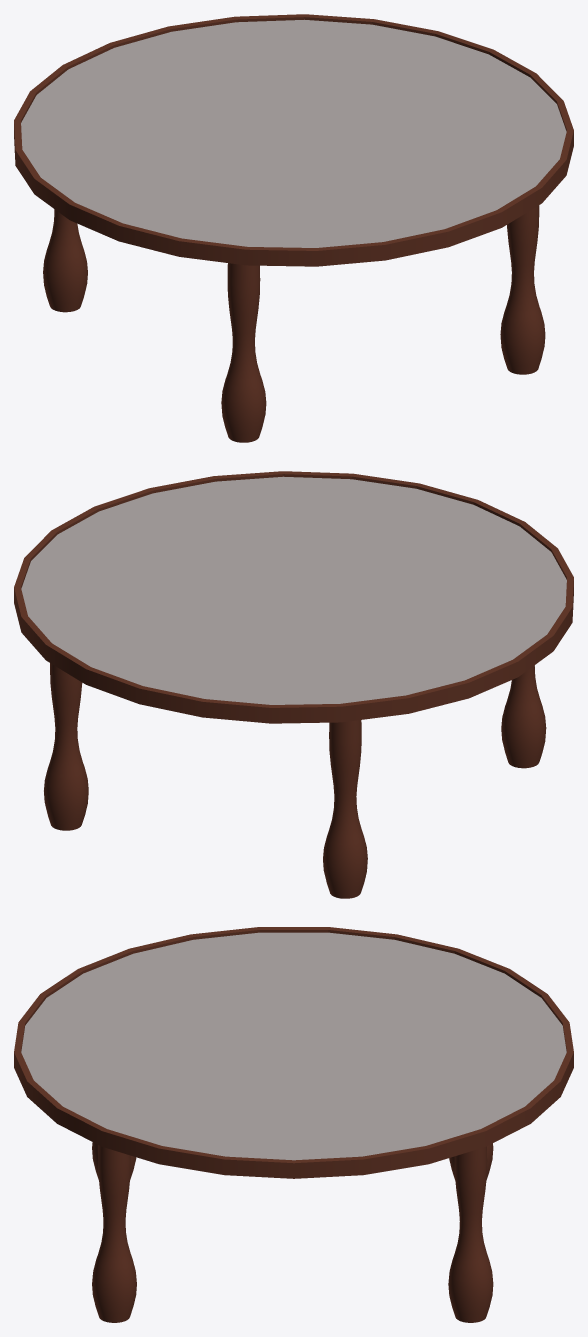
File: table.glb
3 views of the same model, one above another, from view 1: azimuth 30°, elevation 25°; view 2: azimuth 150°, elevation 25°; view 3: azimuth 270°, elevation 25° (orthographic).
Visible parts, largest first — view 1: Cylinder001, Cylinder007, Cylinder006, Cylinder005; view 2: Cylinder001, Cylinder005, Cylinder004, Cylinder007; view 3: Cylinder001, Cylinder006, Cylinder004.
Boxes of the visible parts, x1,y1,x2,y2 form: Cylinder001: (14, 14, 573, 266); Cylinder007: (221, 263, 266, 442); Cylinder006: (500, 205, 545, 374); Cylinder005: (43, 209, 87, 312); Cylinder001: (14, 471, 573, 723); Cylinder005: (323, 720, 367, 898); Cylinder004: (44, 663, 88, 830); Cylinder007: (501, 665, 546, 768); Cylinder001: (14, 927, 573, 1178); Cylinder006: (92, 1145, 136, 1322); Cylinder004: (448, 1146, 493, 1322).
Bounding box in the file's own units: 47743 × 19187 × 47838.
